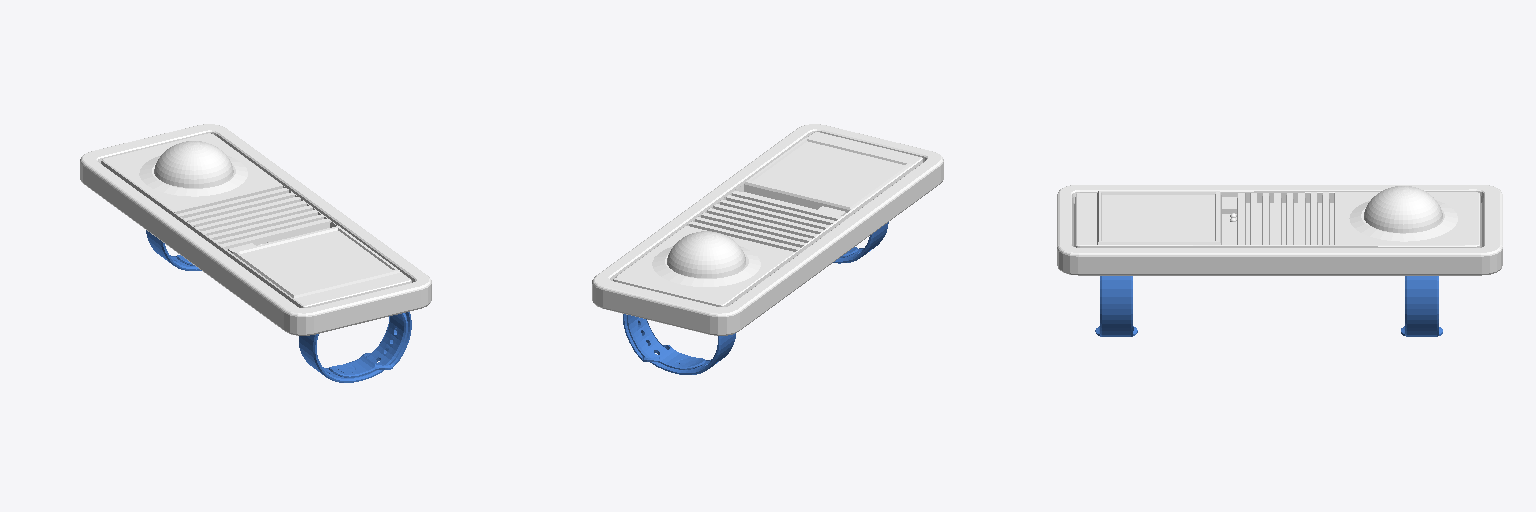
Rendered from wireless-wrist-intercom.obj.
3 views of the same model, side by side, from view 1: azimuth 30°, elevation 25°; view 2: azimuth 150°, elevation 25°; view 3: azimuth 270°, elevation 25° (orthographic).
Visible parts, largest first — view 1: TECH_COM_DEVICE_02, SCREEN, Strap_1_1, INTERCOM_CAM, Strap_1; view 2: TECH_COM_DEVICE_02, SCREEN, INTERCOM_CAM, Strap_1, Strap_1_1; view 3: TECH_COM_DEVICE_02, SCREEN, INTERCOM_CAM, Strap_1, Strap_1_1.
Boxes of the visible parts, box(x1,y1,x2,y2) form: TECH_COM_DEVICE_02: box(80, 124, 431, 335); SCREEN: box(254, 236, 384, 291); Strap_1_1: box(299, 312, 411, 382); INTERCOM_CAM: box(154, 141, 233, 187); Strap_1: box(146, 230, 201, 270); TECH_COM_DEVICE_02: box(592, 124, 943, 335); SCREEN: box(765, 144, 895, 200); INTERCOM_CAM: box(667, 231, 745, 277); Strap_1: box(623, 314, 735, 374); Strap_1_1: box(833, 222, 888, 263); TECH_COM_DEVICE_02: box(1057, 185, 1502, 275); SCREEN: box(1103, 199, 1205, 238); INTERCOM_CAM: box(1364, 186, 1442, 232); Strap_1: box(1401, 276, 1442, 336); Strap_1_1: box(1095, 276, 1137, 336).
Size of the model in its own units: 0.4996 by 0.4337 by 1.33.